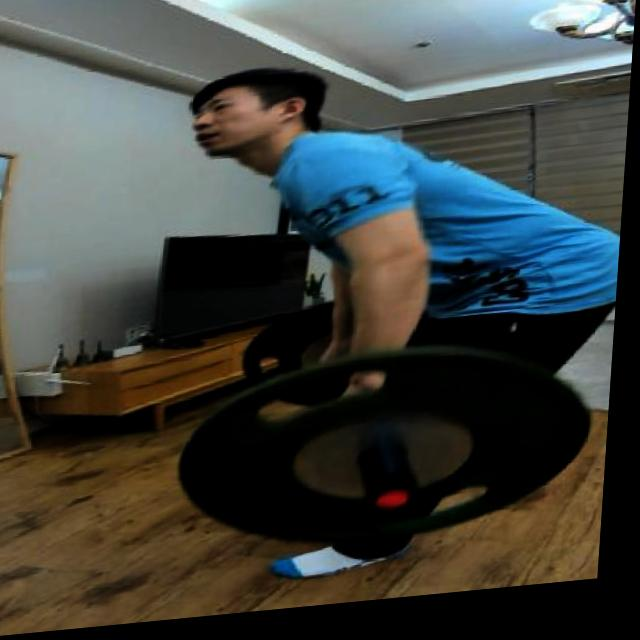barbell: (177, 336, 607, 573)
